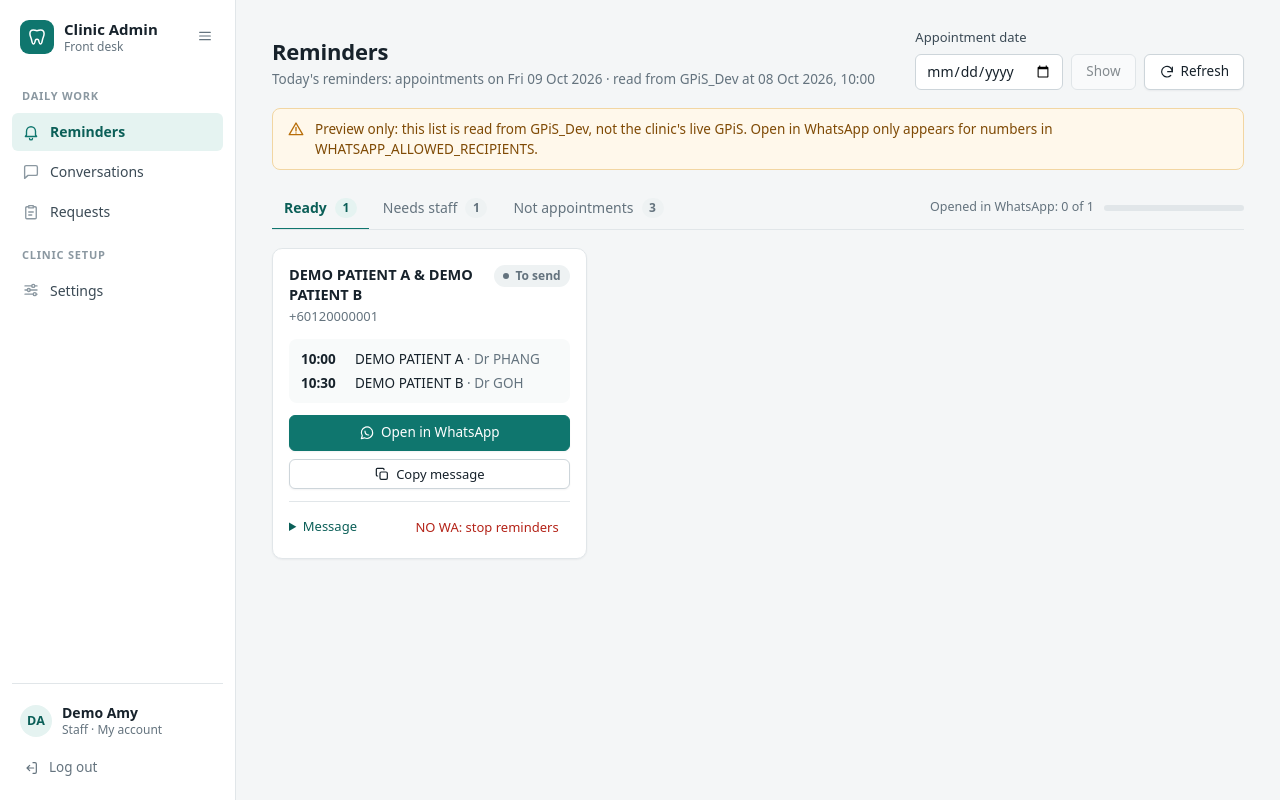
Test: reminders › still shows Opened after going to Needs staff and back
Step 1. Click the link "Open in WhatsApp" → (429, 433), box [289,415,570,451]
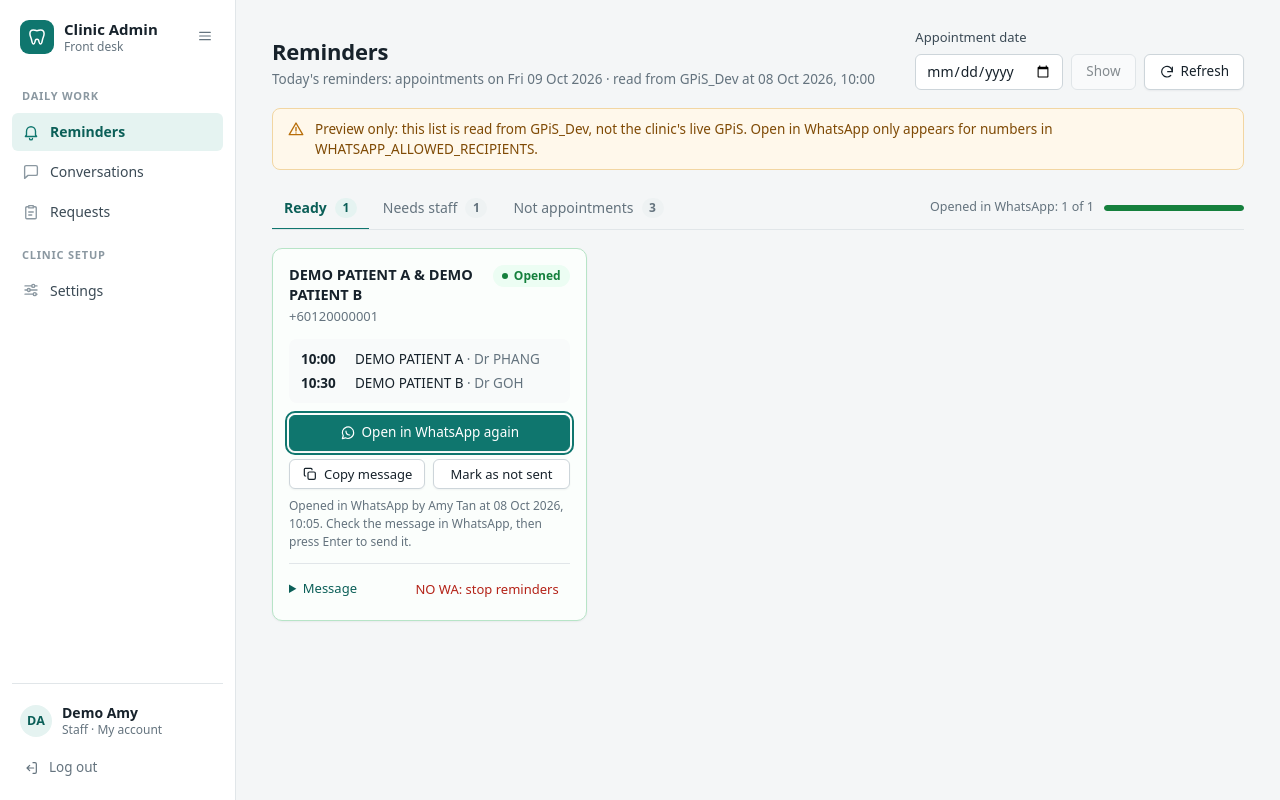
Expected: the text "Opened" is shown, [493,265,570,287]
Step 2. Click the tab "Needs staff 1" → (435, 209), box [371,188,499,230]
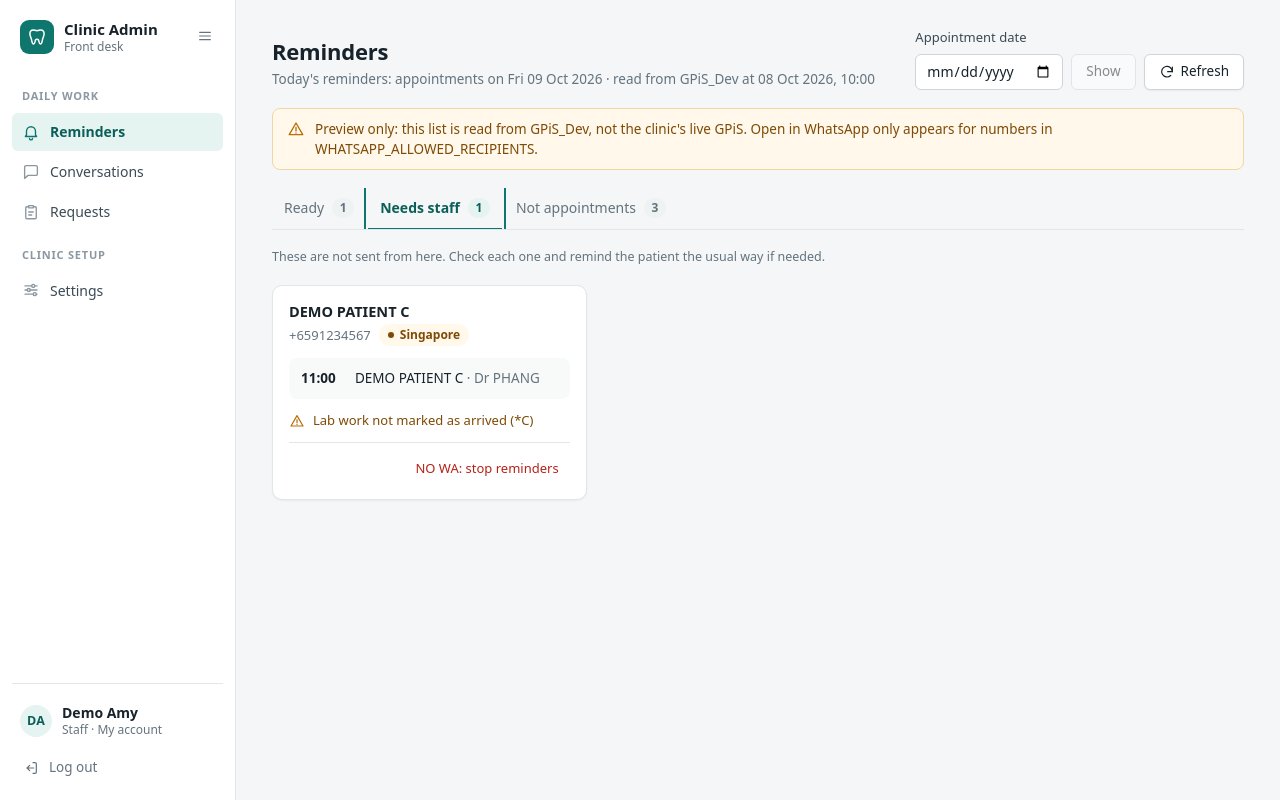
Expected: the text "DEMO PATIENT A & DEMO PATIENT B" is gone
Step 3. Click the tab "Ready 1" → (319, 209), box [272,188,366,230]
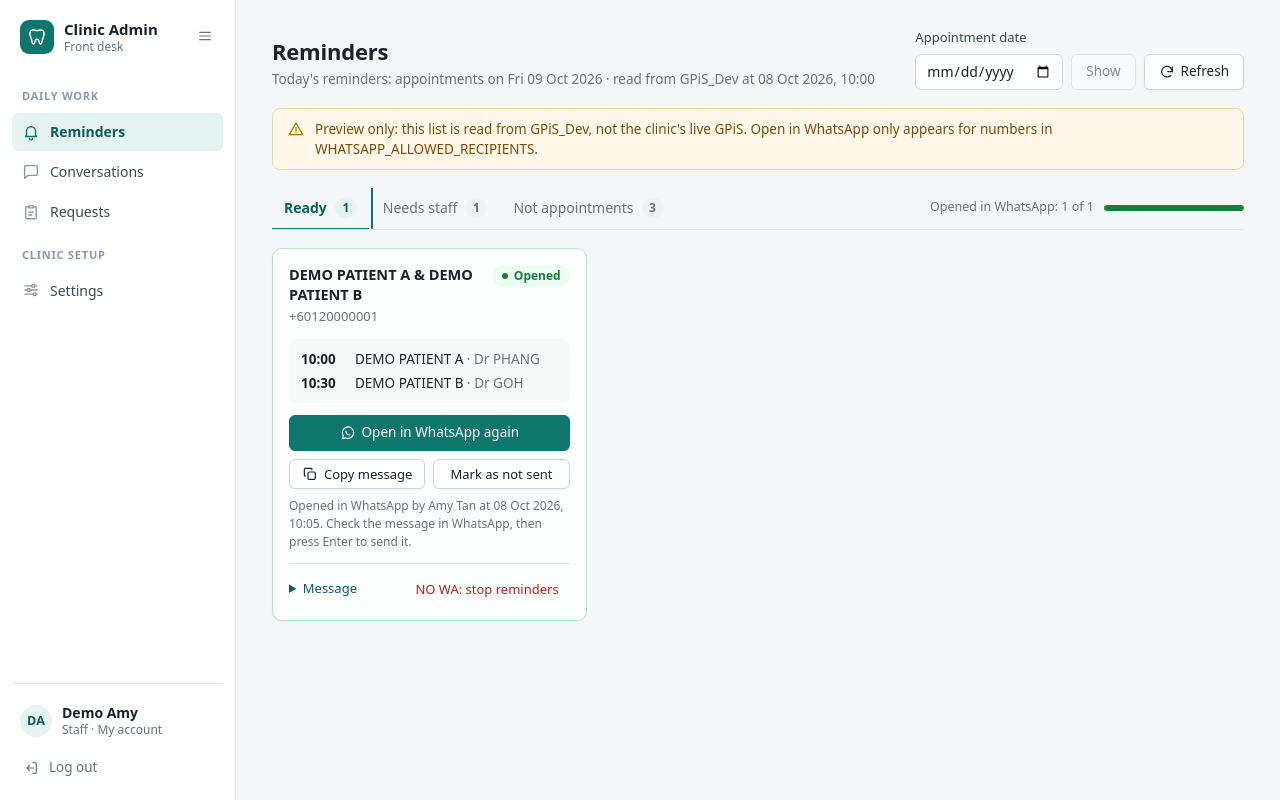
Expected: the text "Opened" is shown, [493,265,570,287]
Expected: the link "Open in WhatsApp again" is shown, [289,415,570,451]
Expected: the text "Opened in WhatsApp by Amy Tan" is shown, [289,497,570,551]
